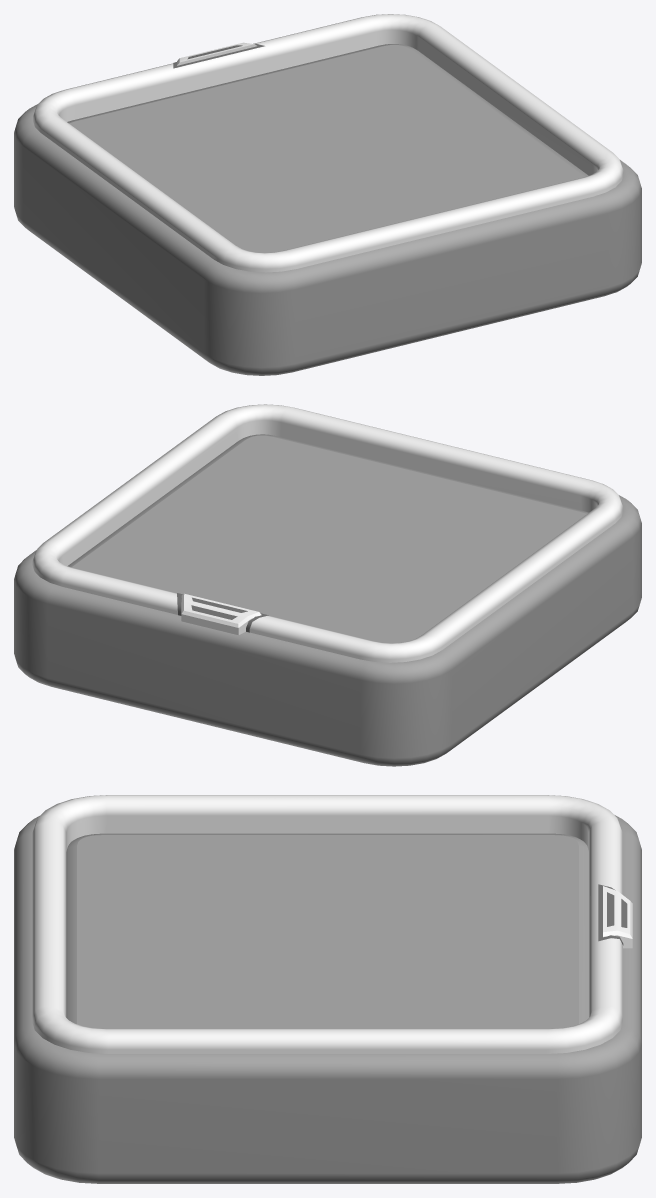
Rendered from Model_Block_Square_New.fbx.
The picture shows the model from 3 angles, top to bottom: view 1: azimuth 30°, elevation 25°; view 2: azimuth 150°, elevation 25°; view 3: azimuth 270°, elevation 25°; orthographic projection. The views are drawn at different scales.
Parts seen in each view (by area): view 1: Block_Square_BG, Block_Square_Water, Block_Square_Stroke; view 2: Block_Square_BG, Block_Square_Water, Block_Square_Stroke; view 3: Block_Square_Water, Block_Square_BG, Block_Square_Stroke.
Boxes of the visible parts, x1,y1,x2,y2 form: Block_Square_BG: [14, 104, 641, 375]; Block_Square_Water: [67, 44, 588, 252]; Block_Square_Stroke: [33, 14, 623, 272]; Block_Square_BG: [14, 495, 641, 766]; Block_Square_Water: [67, 434, 588, 643]; Block_Square_Stroke: [32, 404, 623, 662]; Block_Square_Water: [66, 833, 588, 1028]; Block_Square_BG: [14, 815, 641, 1183]; Block_Square_Stroke: [32, 795, 632, 1053].
Bounding box in the file's own units: 197 × 50.91 × 197.
Materials: 2 (1 with a texture image).
